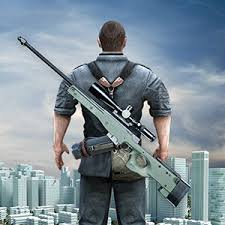gun: (16, 34, 191, 209)
